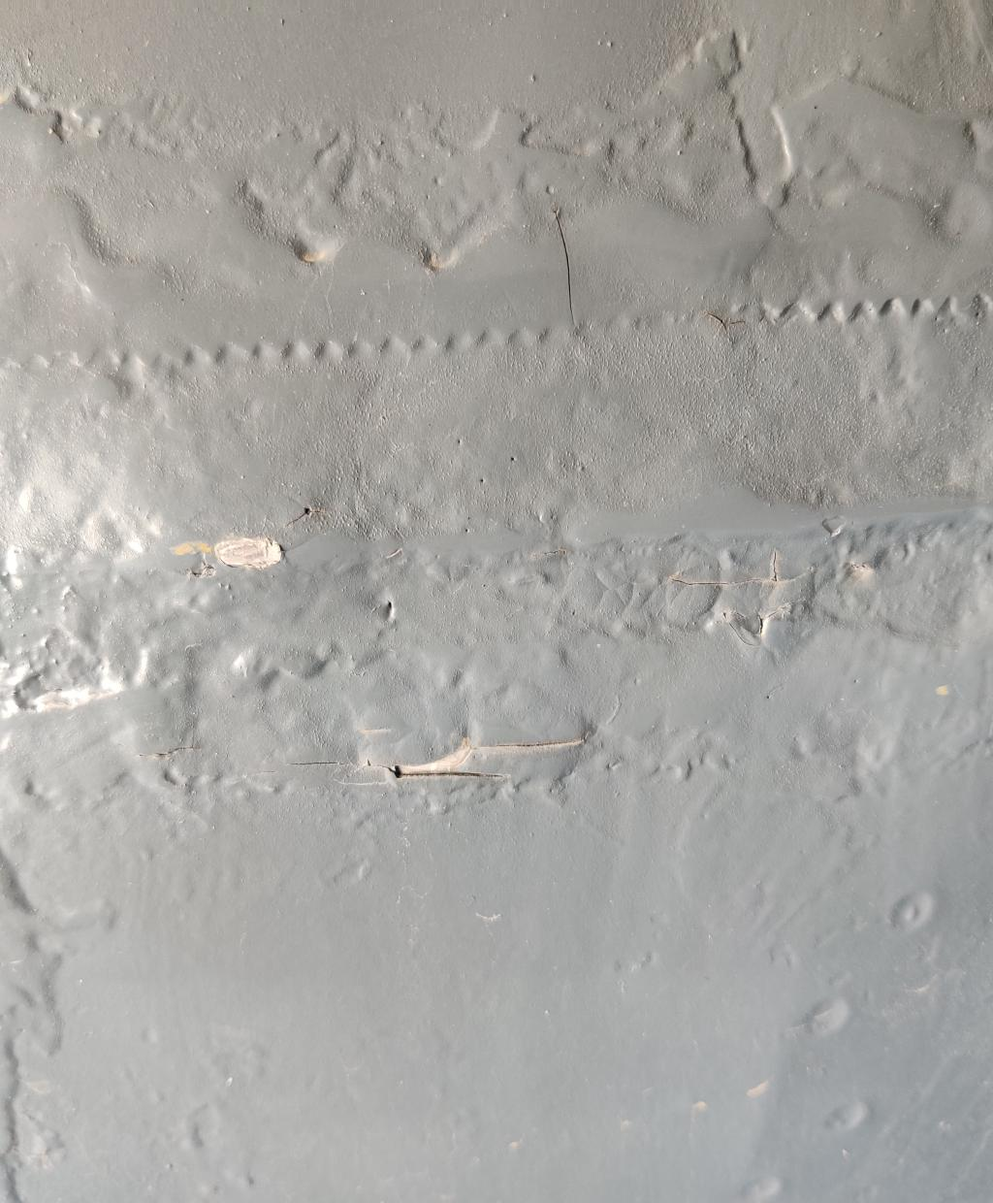corrosion: (159, 508, 295, 595)
crack: (282, 710, 615, 806), (659, 537, 821, 659), (538, 196, 590, 346)
